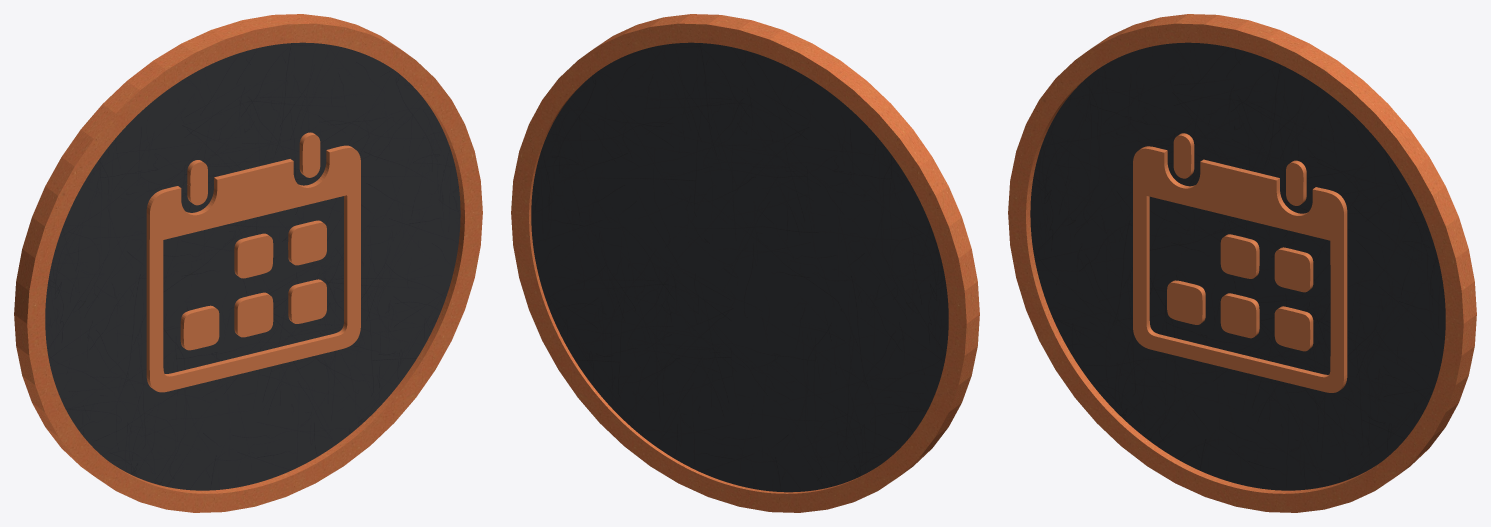
File: date.glb
3 renders of one model, left to right at view 1: azimuth 30°, elevation 25°; view 2: azimuth 150°, elevation 25°; view 3: azimuth 330°, elevation 25°, orthographic.
Visible parts, largest first — view 1: Curve.002; view 2: Curve.002; view 3: Curve.002.
Part boxes in pixels (box(x1,y1,x2,y2)): Curve.002: box(14, 14, 482, 512); Curve.002: box(511, 14, 979, 512); Curve.002: box(1008, 14, 1476, 512).
Size of the model in its own units: 0.4 by 0.3999 by 0.0283.
Materials: 3 (3 with a texture image).
